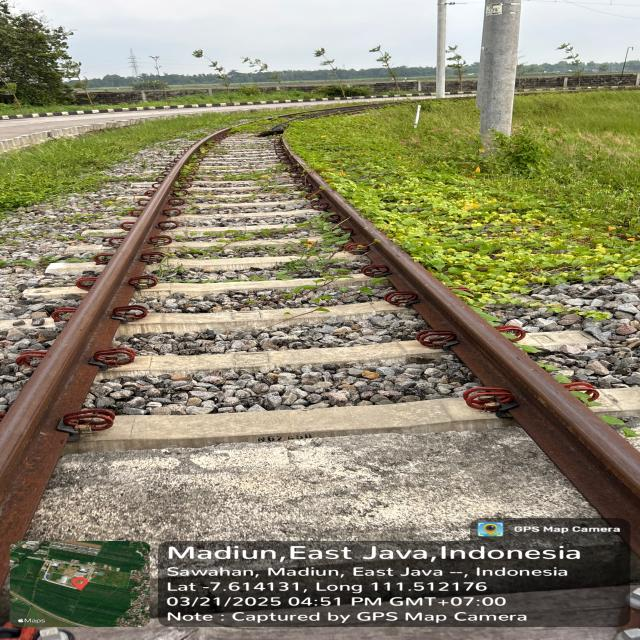rail-detection: (305, 171, 640, 558), (0, 129, 229, 586), (282, 138, 307, 170), (318, 178, 326, 186)
